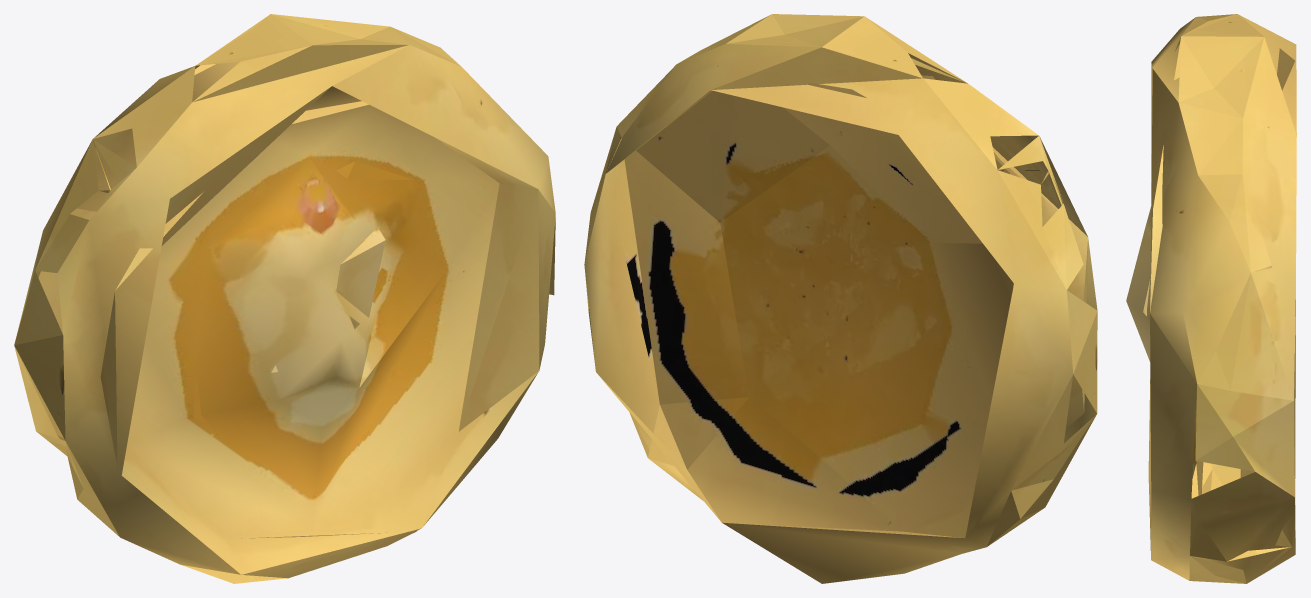
The picture shows the model from 3 angles, left to right: view 1: azimuth 30°, elevation 25°; view 2: azimuth 150°, elevation 25°; view 3: azimuth 270°, elevation 25°; orthographic projection. The views are drawn at different scales.
Visible parts, largest first — view 1: geometry_0; view 2: geometry_0; view 3: geometry_0.
Boxes of the visible parts, x1,y1,x2,y2 form: geometry_0: (14,14,555,583); geometry_0: (584,14,1097,583); geometry_0: (1126,14,1296,583).
Bounding box in the file's own units: 0.9727 × 0.9976 × 0.2916.
Materials: 1 (1 with a texture image).
